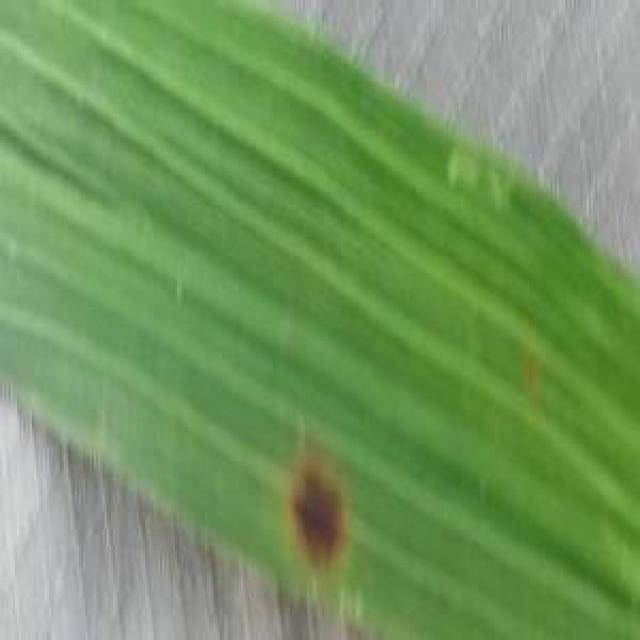Brown_Spot: (274, 445, 358, 573)
